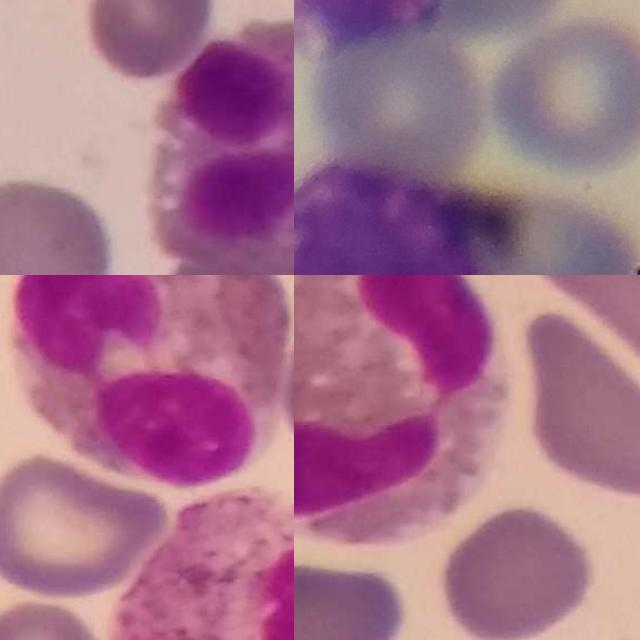Basophil: (294, 157, 499, 275)
Eosinophil: (7, 275, 293, 485), (294, 275, 509, 551), (157, 19, 294, 275), (104, 487, 294, 640)
